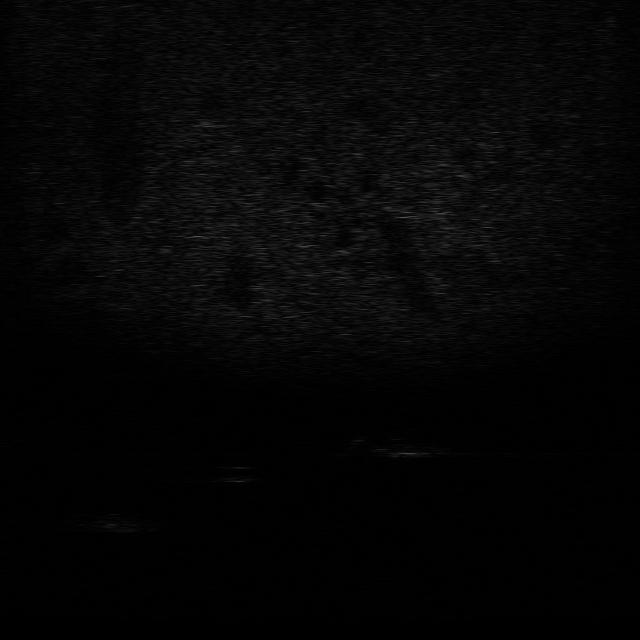ball: (216, 463, 258, 486)
circle cage: (60, 508, 151, 536)
human body: (334, 429, 451, 462)
